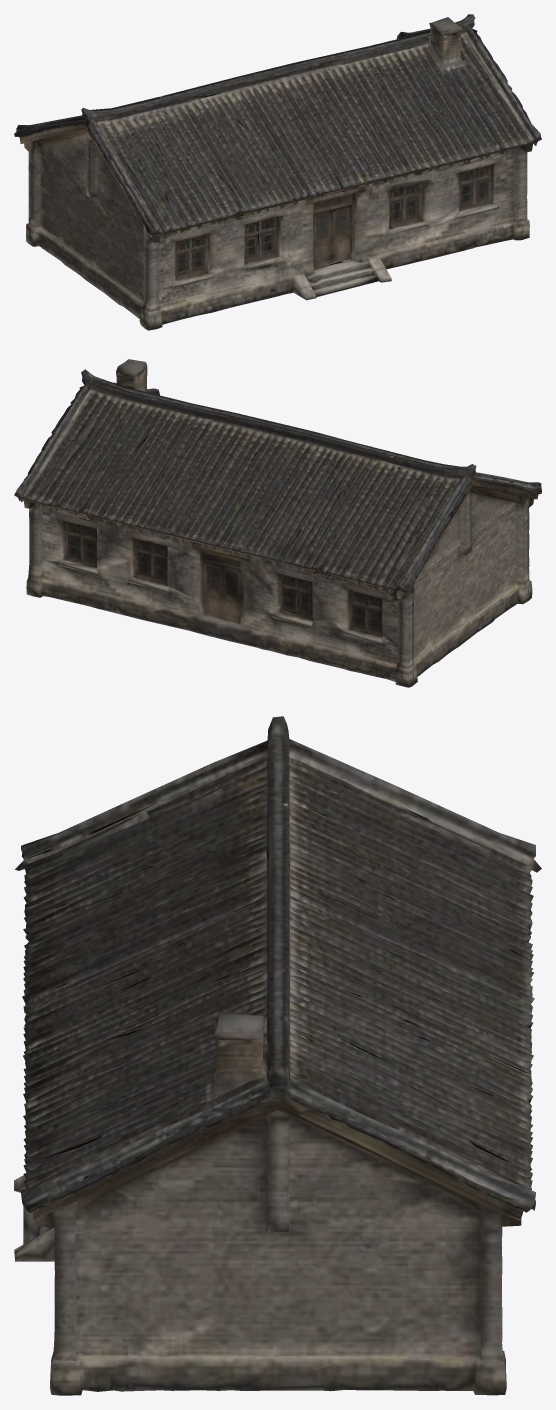
Rendered from bq_house_stone.bk.glb.
The picture shows the model from 3 angles, top to bottom: view 1: azimuth 30°, elevation 25°; view 2: azimuth 150°, elevation 25°; view 3: azimuth 270°, elevation 25°; orthographic projection. The views are drawn at different scales.
Parts seen in each view (by area): view 1: lo; view 2: lo; view 3: lo.
Part boxes in pixels (x1,y1,x2,y2): lo: [14, 14, 541, 330]; lo: [14, 359, 541, 687]; lo: [14, 716, 541, 1395].
Size of the model in its own units: 1.9 by 0.8577 by 1.19.
1 material, 1 textured.
